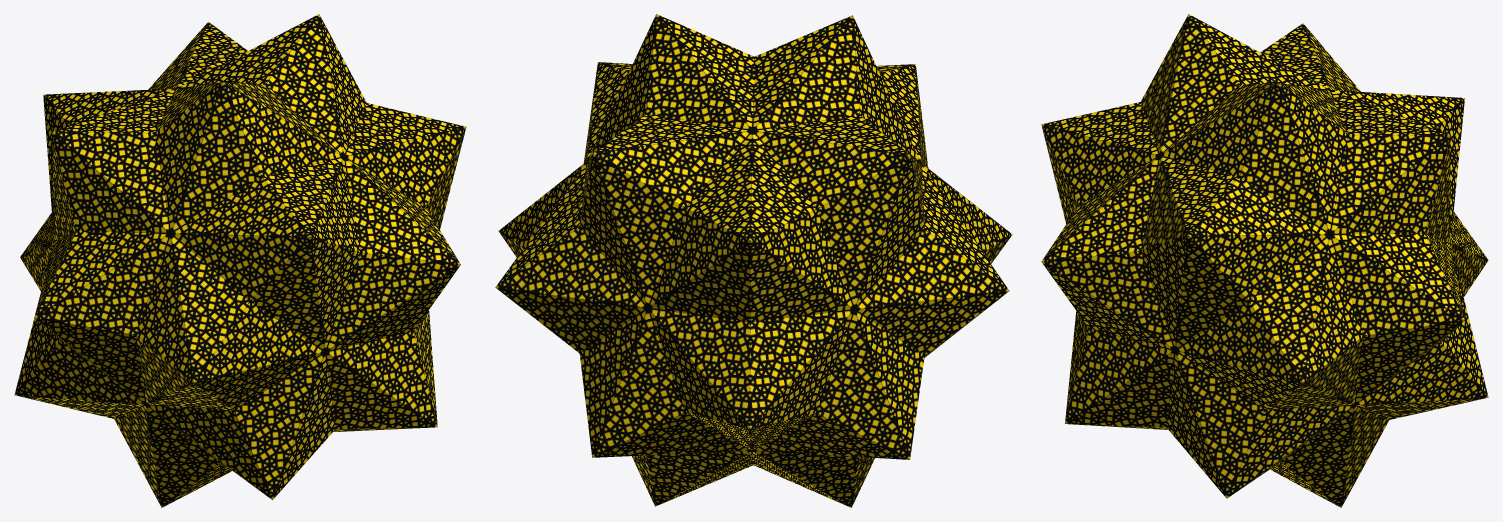
The model's file is rhombicosacron.gltf.
3 views of the same model, side by side, from view 1: azimuth 30°, elevation 25°; view 2: azimuth 150°, elevation 25°; view 3: azimuth 270°, elevation 25° (orthographic). The views are drawn at different scales.
Visible parts, largest first — view 1: Mesh; view 2: Mesh; view 3: Mesh.
Part boxes in pixels (left/top/right/bottom): Mesh: left=14, top=14, right=466, bottom=507; Mesh: left=495, top=14, right=1012, bottom=507; Mesh: left=1041, top=14, right=1488, bottom=507.
Size of the model in its own units: 2.79 by 2.61 by 2.41.
1 material, 1 textured.
